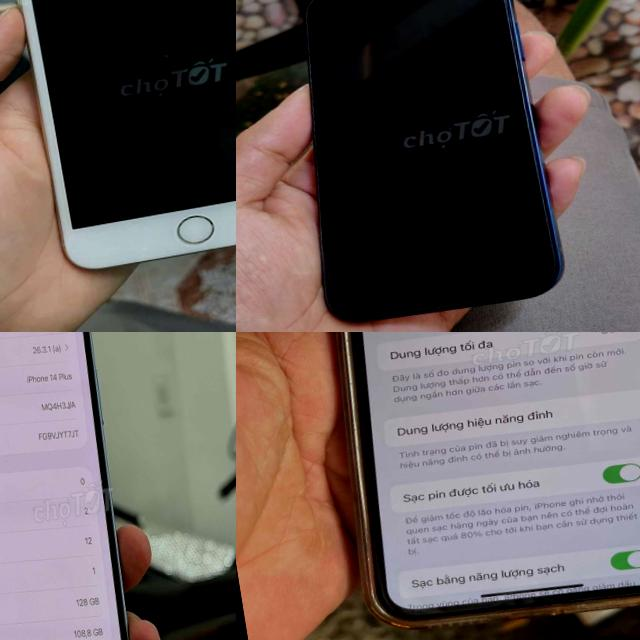gen_12_13: (267, 0, 569, 332)
gen_14: (0, 332, 157, 640)
gen_6: (0, 0, 236, 284)
gen_x_xs: (292, 332, 640, 640)
